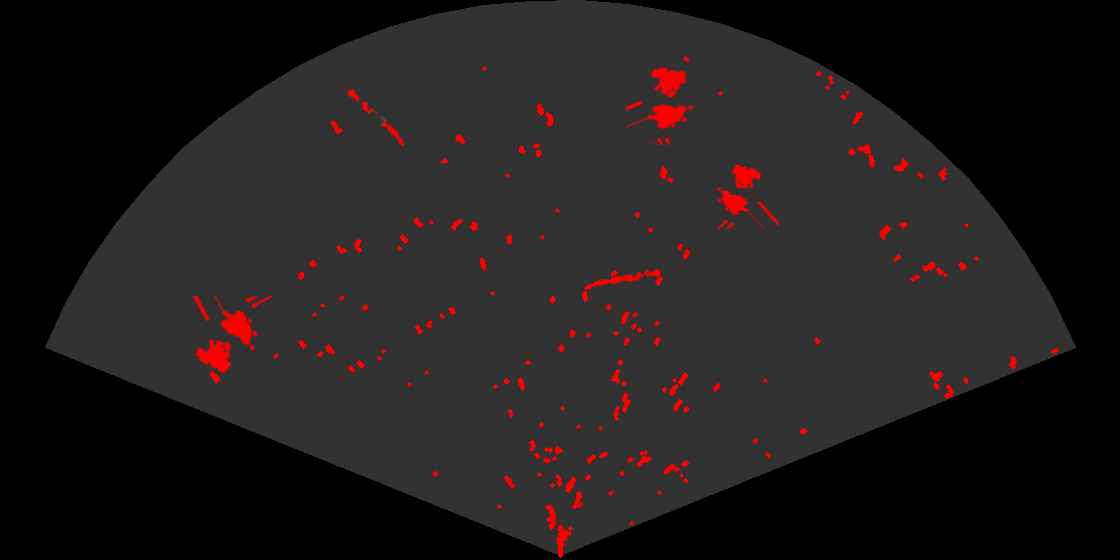cage: (191, 296, 276, 375), (626, 65, 696, 145), (715, 163, 779, 229)
chain: (341, 81, 406, 148), (582, 267, 663, 292)
